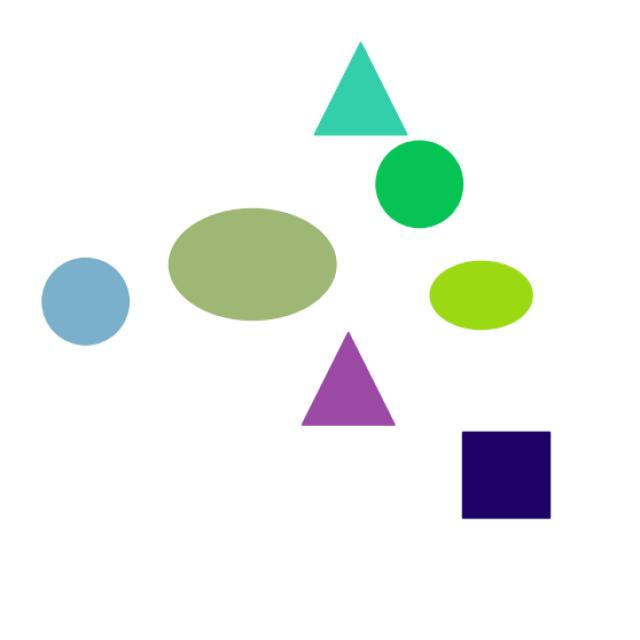Circle: (31, 240, 145, 356), (372, 134, 482, 238)
Oval: (158, 199, 354, 323), (424, 258, 562, 338)
Triangle: (281, 321, 417, 454), (304, 27, 410, 145)
square: (442, 414, 582, 545)
